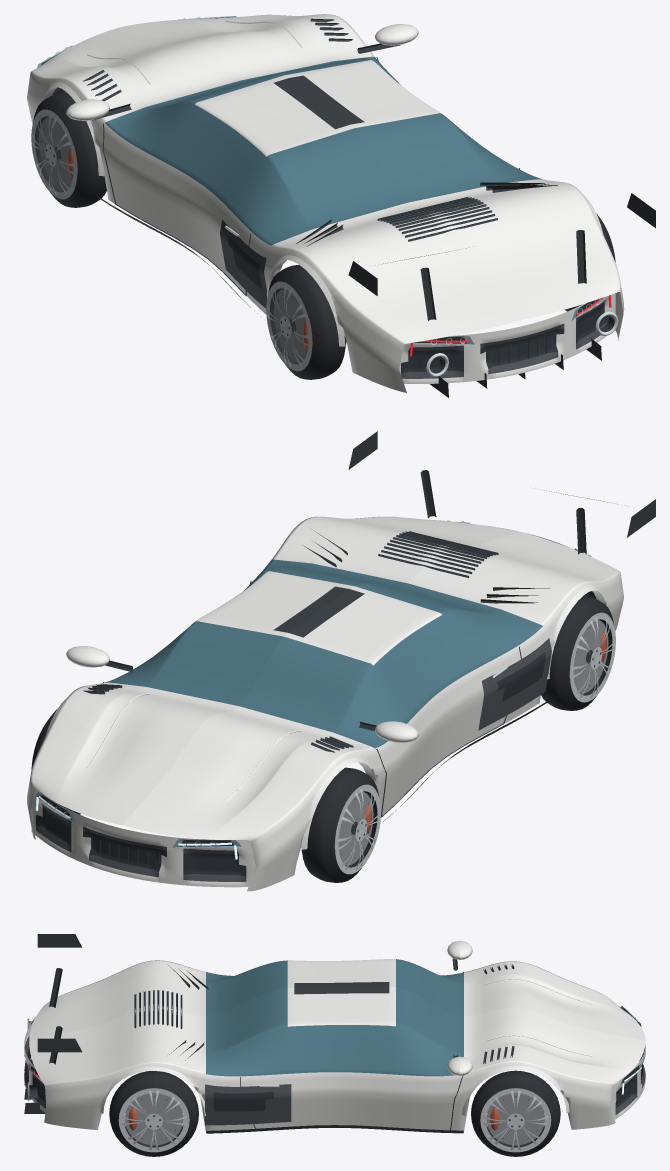
Rendered from titan_v12_medium.glb.
3 renders of one model, top to bottom at view 1: azimuth 30°, elevation 25°; view 2: azimuth 150°, elevation 25°; view 3: azimuth 270°, elevation 25°, orthographic. The views are drawn at different scales.
Parts seen in each view (by area): view 1: Body, Wheel_2, Wheel_0; view 2: Body, Wheel_0, Wheel_2; view 3: Body, Wheel_1, Wheel_3.
Part boxes in pixels (x1,y1,x2,y2): Body: (27,14,655,397); Wheel_2: (266,265,346,379); Wheel_0: (31,92,106,207); Body: (27,431,655,891); Wheel_0: (301,767,380,882); Wheel_2: (541,596,615,710); Body: (24,934,645,1133); Wheel_1: (471,1070,560,1156); Wheel_3: (109,1071,198,1156).
Size of the model in its own units: 2.56 by 1.07 by 5.29.
